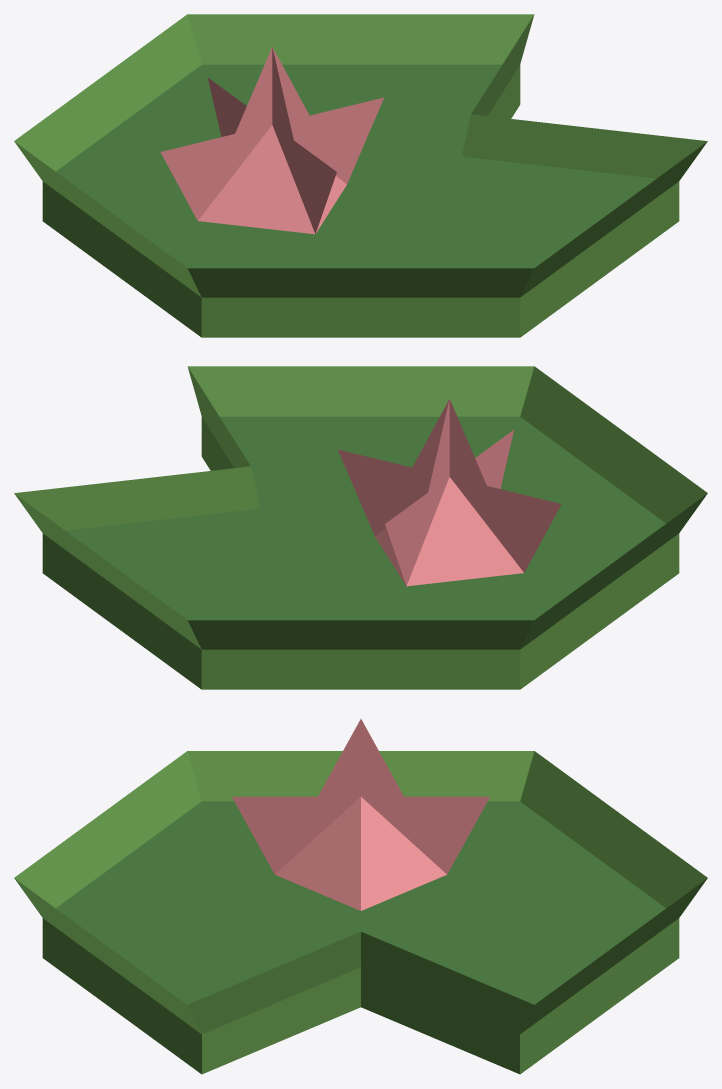
The model's file is lily-2.glb.
3 views of the same model, one above another, from view 1: azimuth 30°, elevation 25°; view 2: azimuth 150°, elevation 25°; view 3: azimuth 270°, elevation 25° (orthographic).
Visible parts, largest first — view 1: lily_large; view 2: lily_large; view 3: lily_large.
Boxes of the visible parts, <box> form: lily_large: <box>14,14,707,337</box>; lily_large: <box>14,366,707,689</box>; lily_large: <box>14,719,707,1074</box>.
Bounding box in the file's own units: 0.111 × 0.04 × 0.1281.
